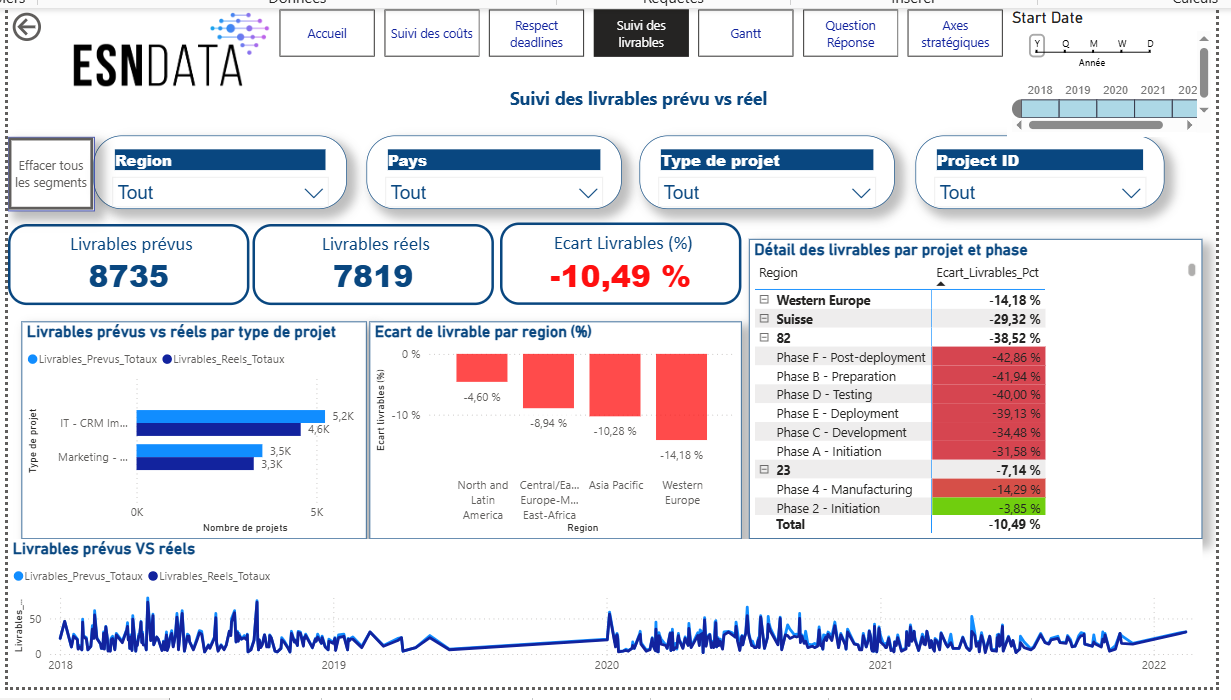

What the dashboard file says about the page in this screenshot:
{"tool":"powerbi","page":{"name":"Suivi des livrables","canvas":[1280,720],"ordinal":6},"visuals":[{"type":"textbox","box":[500,78.3,338.3,35],"z":0},{"type":"image","box":[1058.9,0,221.1,101.8],"z":1000},{"type":"image","box":[62,0,221.1,84.3],"z":2000},{"type":"card","title":"Livrables prévus","fields":{"Values":["Projects_plans.Livrables_Prevus_Totaux"]},"box":[0,229,256.1,85.9],"z":3000},{"type":"card","title":"Livrables réels","fields":{"Values":["Projects_plans.Livrables_Reels_Totaux"]},"box":[259.3,229,256.1,85.9],"z":4000},{"type":"card","title":"Ecart Livrables (%)","fields":{"Values":["Projects_plans.Ecart_Livrables_Pct"]},"box":[521.7,227.5,256.1,87.5],"z":5000},{"type":"slicer","fields":{"Values":["Project type.Project Type"]},"box":[670.2,136,270.4,77.9],"z":6000},{"type":"slicer","fields":{"Values":["Projects_plans.Project ID"]},"box":[962.8,136,264,77.9],"z":7000},{"type":"slicer","fields":{"Values":["Projects_Locations.Country"]},"box":[380.7,136,270.4,77.9],"z":8000},{"type":"slicer","fields":{"Values":["Country_Profiles.Region"]},"box":[91.2,136,268.8,77.9],"z":9000},{"type":"clusteredBarChart","title":"Livrables prévus vs réels par type de projet","fields":{"Category":["Project type.Project Type"],"Y":["Projects_plans.Livrables_Prevus_Totaux","Projects_plans.Livrables_Reels_Totaux"]},"box":[14.3,332.4,365.8,230.6],"z":10000},{"type":"lineStackedColumnComboChart","title":"Ecart de livrable par region (%)","fields":{"Category":["Country_Profiles.Region"],"Y":["Projects_plans.Ecart_Livrables_Pct"]},"box":[383.3,332.4,394.5,230.6],"z":11000},{"type":"pivotTable","title":"Détail des livrables par projet et phase","fields":{"Values":["Projects_plans.Ecart_Livrables_Pct"],"Rows":["Country_Profiles.Region","Country_Profiles.Country","Projects_plans.Project ID","Projects_plans.Phase"]},"box":[785.8,245,480.4,318.1],"z":12000},{"type":"lineChart","title":"Livrables prévus VS réels","fields":{"Y":["Projects_plans.Livrables_Prevus_Totaux","Projects_plans.Livrables_Reels_Totaux"],"Category":["Projects_plans.Start Date Hiérarchie.Start Date"]},"box":[0,563.3,1266.7,151.7],"z":13000},{"type":"actionButton","box":[0,136.7,91.7,78.3],"z":14000},{"type":"pageNavigator","box":[288.3,1.7,771.7,50],"z":15000},{"type":"actionButton","box":[0,0,100,40],"z":16000},{"type":"Timeline1447991079100","fields":{"Time":["Projects_plans.Start Date"]},"box":[1059.3,0,221.1,136.8],"z":17000}]}

Visuals, with their boxes on the page's 1280x720 design canvas (x1, y1, x2, y2). These are canvas units, not pixel positions in the 1231x700 screenshot, which may show the page scaled, cropped or inside an application window:
textbox: pyautogui.locateOnScreen(500, 78, 838, 113)
image: pyautogui.locateOnScreen(1059, 0, 1280, 102)
image: pyautogui.locateOnScreen(62, 0, 283, 84)
"Livrables prévus" card: pyautogui.locateOnScreen(0, 229, 256, 315)
"Livrables réels" card: pyautogui.locateOnScreen(259, 229, 515, 315)
"Ecart Livrables (%)" card: pyautogui.locateOnScreen(522, 228, 778, 315)
slicer - Project type.Project Type: pyautogui.locateOnScreen(670, 136, 941, 214)
slicer - Projects_plans.Project ID: pyautogui.locateOnScreen(963, 136, 1227, 214)
slicer - Projects_Locations.Country: pyautogui.locateOnScreen(381, 136, 651, 214)
slicer - Country_Profiles.Region: pyautogui.locateOnScreen(91, 136, 360, 214)
"Livrables prévus vs réels par type de projet" clusteredBarChart: pyautogui.locateOnScreen(14, 332, 380, 563)
"Ecart de livrable par region (%)" lineStackedColumnComboChart: pyautogui.locateOnScreen(383, 332, 778, 563)
"Détail des livrables par projet et phase" pivotTable: pyautogui.locateOnScreen(786, 245, 1266, 563)
"Livrables prévus VS réels" lineChart: pyautogui.locateOnScreen(0, 563, 1267, 715)
actionButton: pyautogui.locateOnScreen(0, 137, 92, 215)
pageNavigator: pyautogui.locateOnScreen(288, 2, 1060, 52)
actionButton: pyautogui.locateOnScreen(0, 0, 100, 40)
Timeline1447991079100 - Projects_plans.Start Date: pyautogui.locateOnScreen(1059, 0, 1280, 137)
